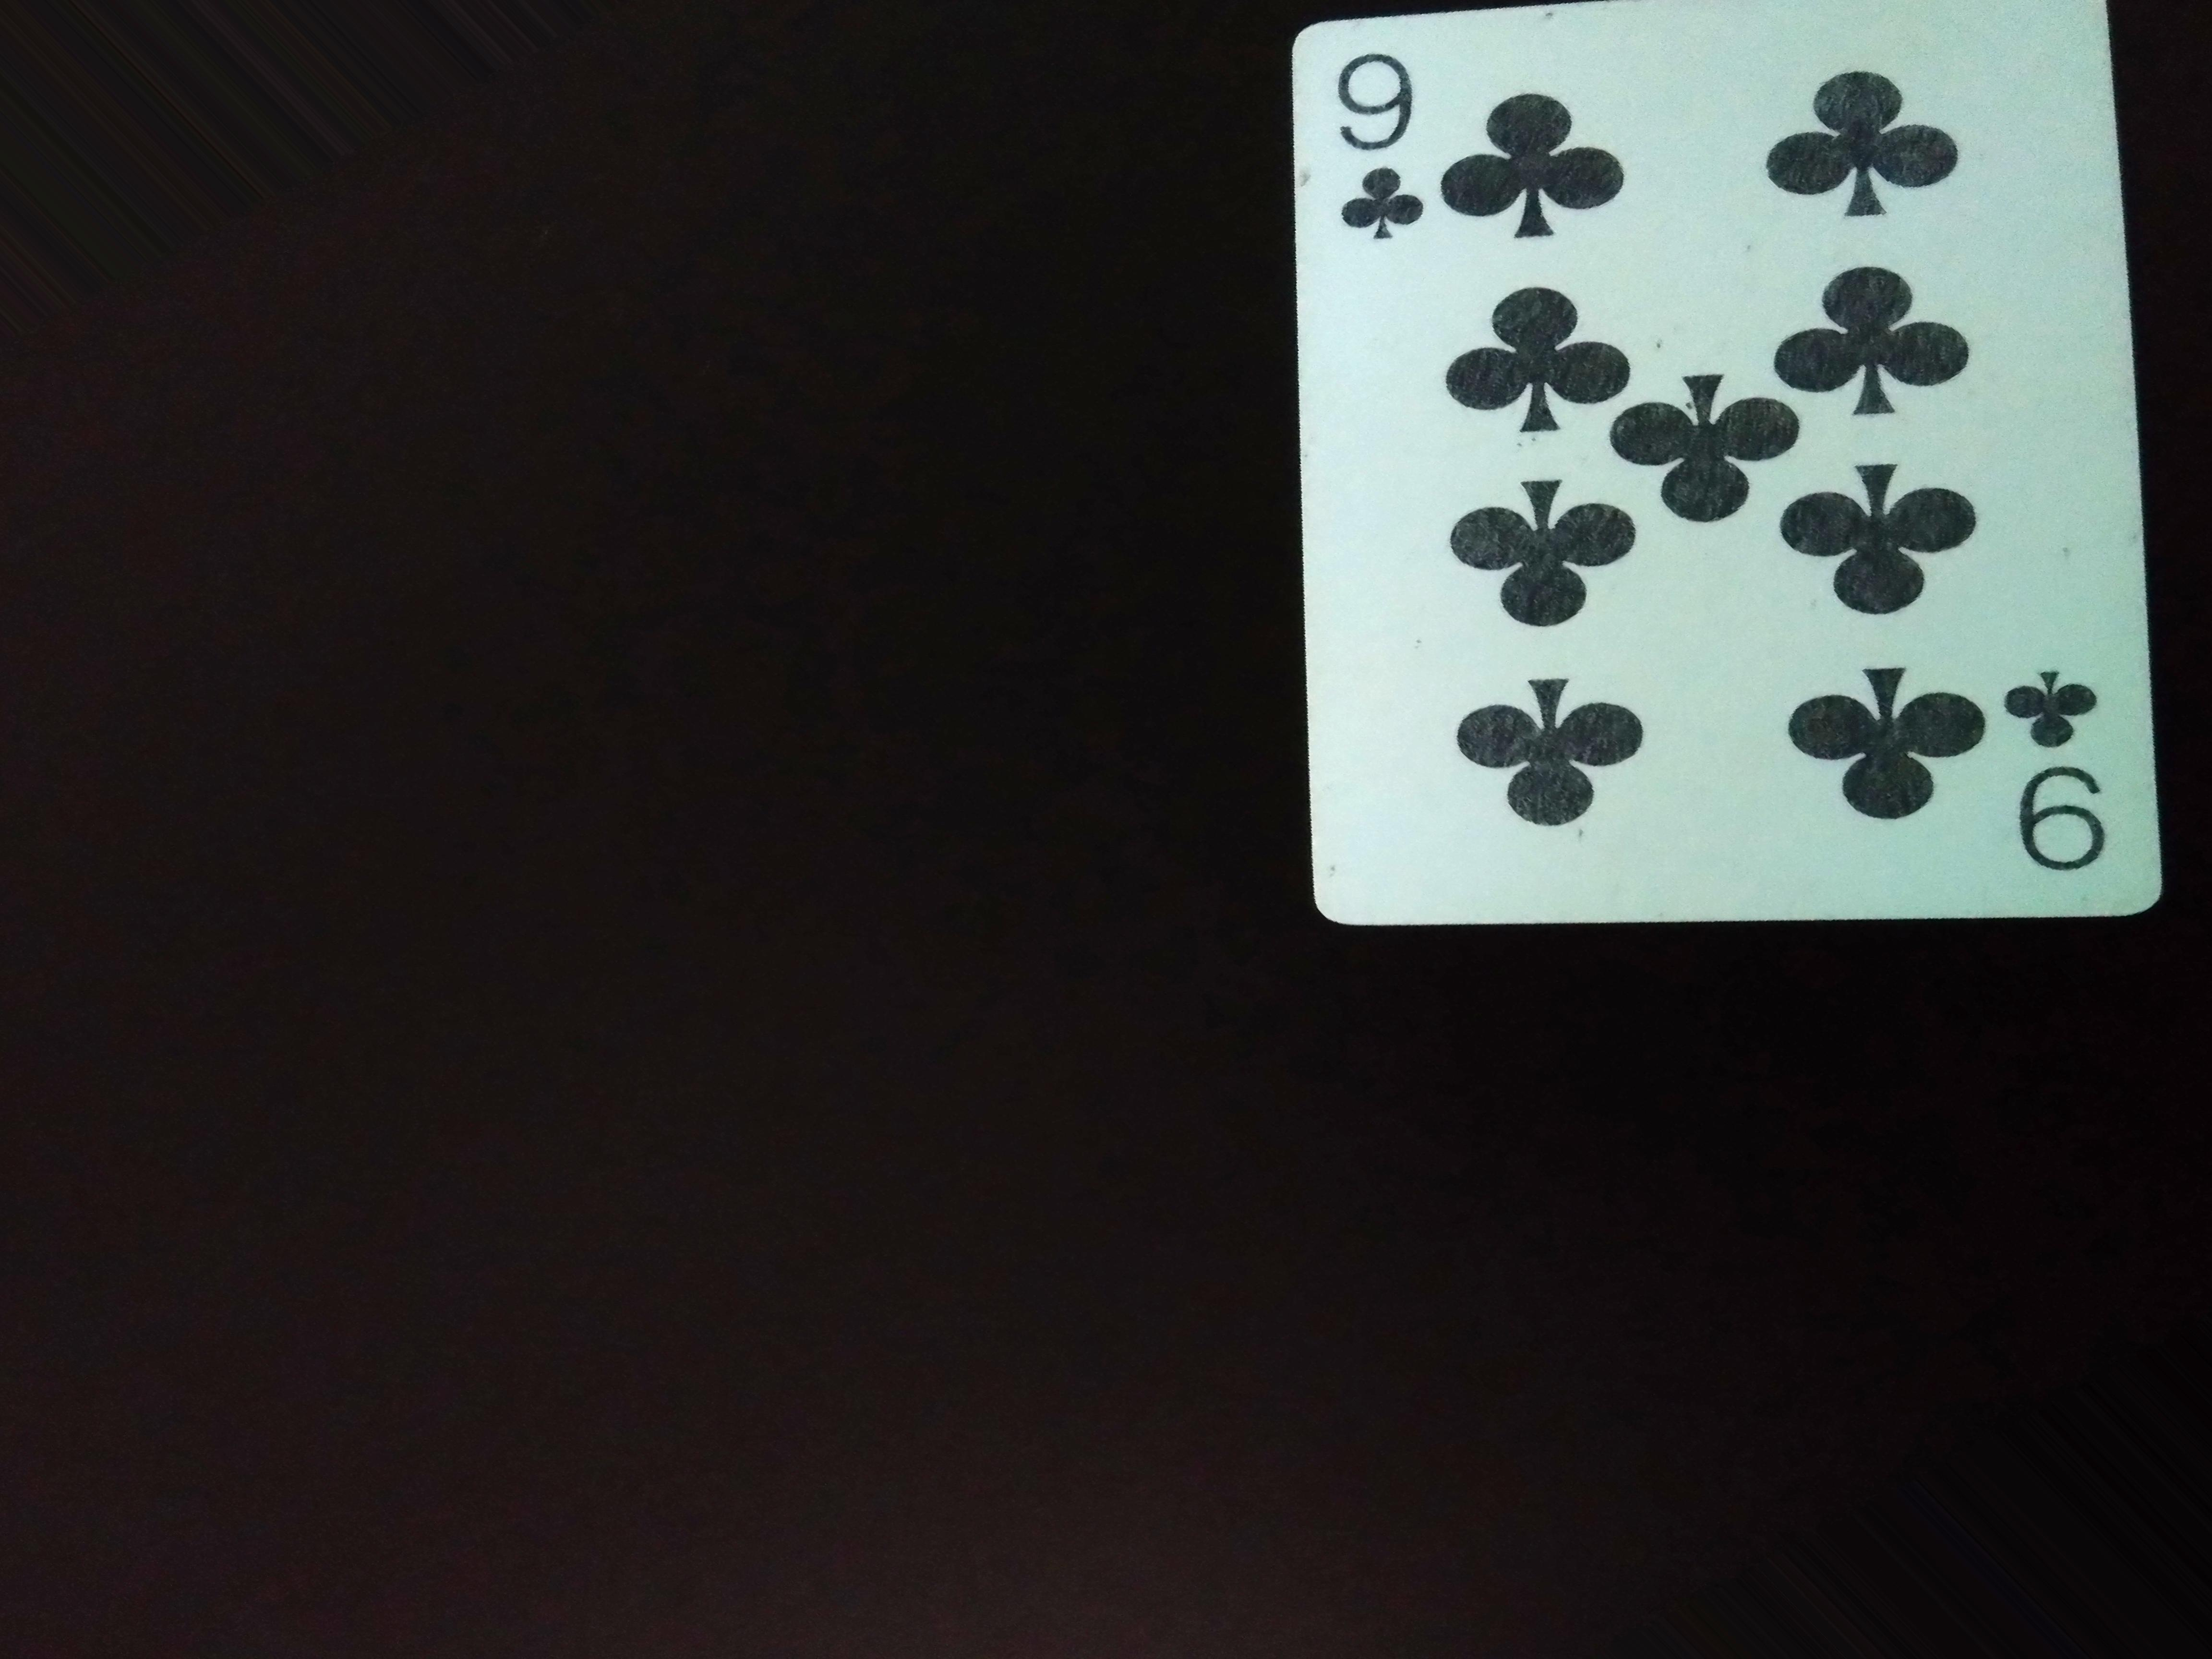9C: (1338, 45, 1426, 267)
